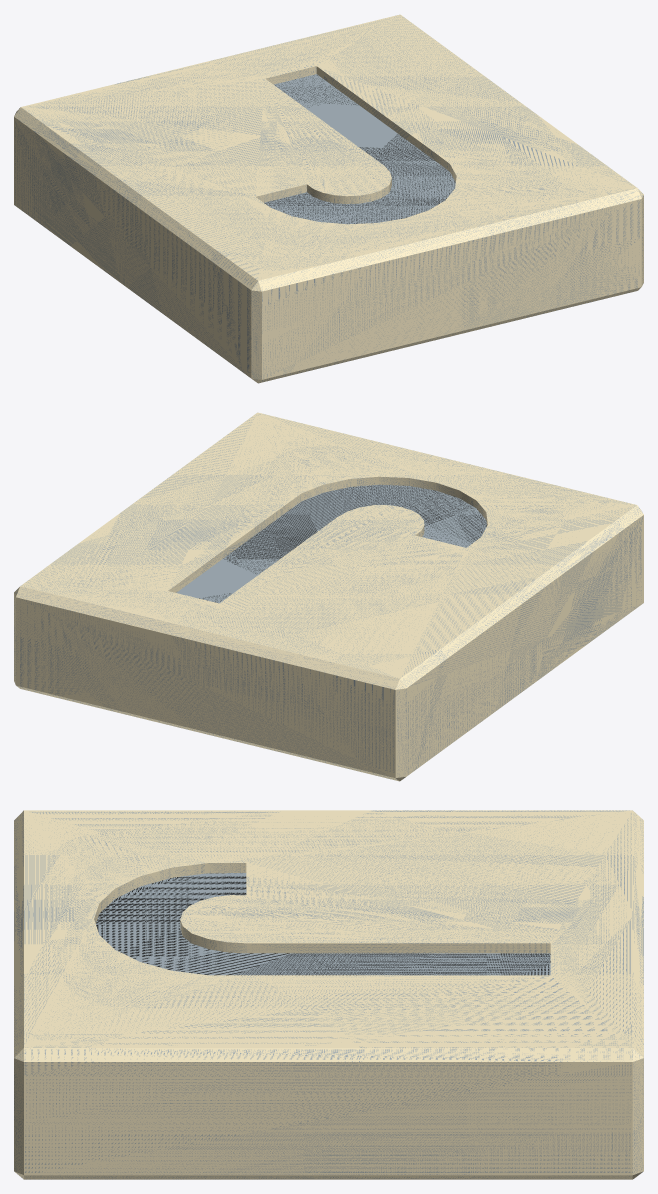
The model's file is Boardgame_Anagram_Tile_J.fbx.
3 renders of one model, top to bottom at view 1: azimuth 30°, elevation 25°; view 2: azimuth 150°, elevation 25°; view 3: azimuth 270°, elevation 25°, orthographic. The views are drawn at different scales.
Visible parts, largest first — view 1: Model; view 2: Model; view 3: Model.
Boxes of the visible parts, left/top/right/bottom form: Model: left=14, top=14, right=643, bottom=383; Model: left=14, top=412, right=643, bottom=781; Model: left=14, top=810, right=643, bottom=1179.
Bounding box in the file's own units: 195 × 48.83 × 212.
